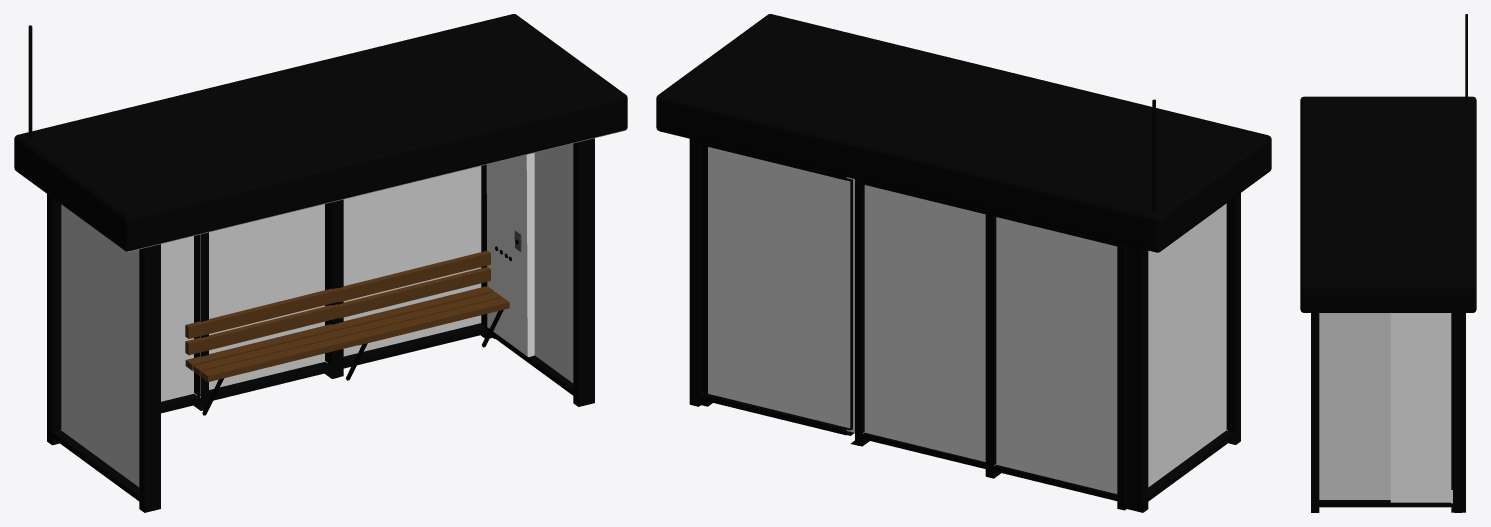
Rendered from busStop.glb.
3 views of the same model, side by side, from view 1: azimuth 30°, elevation 25°; view 2: azimuth 150°, elevation 25°; view 3: azimuth 270°, elevation 25° (orthographic). The views are drawn at different scales.
Visible parts, largest first — view 1: Cube, Plane.003, Plane.001, Plane.004, Cube.001, Plane.005, Cube.005, Plane.002, Cube.004, Cube.003, Cube.020, Cube.019 (+9 smaller); view 2: Cube, Plane.004, Plane.003, Plane.002, Cube.003, Cube.001, Cube.002, Plane.001, Cube.004; view 3: Cube, Cube.005, Plane.006, Plane.005, Cube.002, Cube.004, Cylinder.006.
Part boxes in pixels (x1,y1,x2,y2): Cube: (14,14,627,251); Plane.003: (234,166,481,374); Plane.001: (61,204,139,444); Plane.004: (161,221,306,401); Cube.001: (47,194,160,512); Plane.005: (534,143,573,382); Cube.005: (486,153,534,356); Plane.002: (60,327,139,486); Cube.004: (481,138,594,406); Cube.003: (161,200,339,413); Cube.020: (185,288,339,338); Cube.019: (185,304,339,355); Cube: (656,14,1271,252); Plane.004: (708,147,961,439); Plane.003: (883,201,1117,493); Plane.002: (1148,225,1227,487); Cube.003: (855,179,1126,510); Cube.001: (1126,193,1240,512); Cube.002: (689,139,866,445); Plane.001: (1148,203,1226,341); Cube.004: (698,145,712,406); Cube: (1300,96,1476,312); Cube.005: (1390,313,1452,503); Plane.006: (1319,313,1390,499); Plane.005: (1319,313,1390,499); Cube.002: (1451,313,1465,512); Cube.004: (1311,313,1461,512); Cylinder.006: (1465,14,1467,100).
Bounding box in the file's own units: 4.21 × 3.36 × 1.65.
